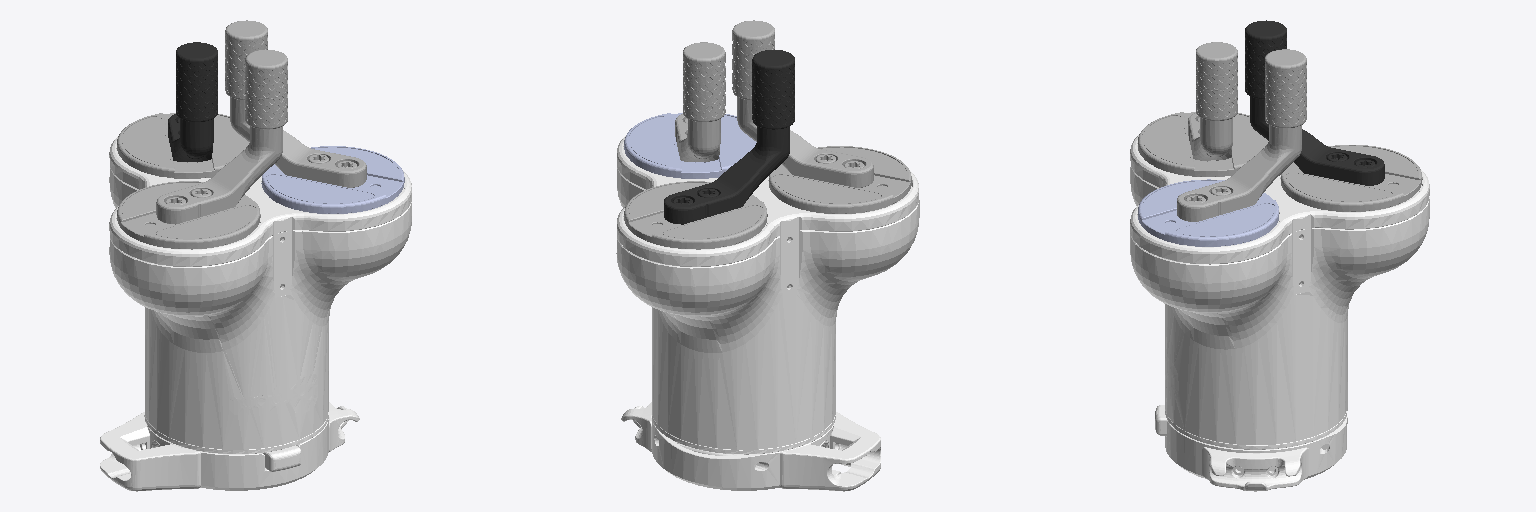
URDF robot description (onrobot_3fg25):
<?xml version="1.0" encoding="utf-8"?>
<!-- This URDF was automatically created by SolidWorks to URDF Exporter! Originally created by Stephen Brawner (brawner@gmail.com) 
     Commit Version: 1.6.0-4-g7f85cfe  Build Version: 1.6.7995.38578
     For more information, please see http://wiki.ros.org/sw_urdf_exporter -->
<robot
  name="onrobot_3fg25">
  <link
    name="base_link">
    <inertial>
      <origin
        xyz="0.0069729 -0.0041491 0.087467"
        rpy="0 0 0" />
      <mass
        value="0.8916" />
      <inertia
        ixx="0.00085736"
        ixy="-8.0434E-07"
        ixz="4.0429E-07"
        iyy="0.00086353"
        iyz="-2.2355E-07"
        izz="0.0013564" />
    </inertial>
    <visual>
      <origin
        xyz="0 0 0"
        rpy="0 0 0" />
      <geometry>
        <mesh
          filename="package://onrobot_3fg25/meshes/base_link.STL" />
      </geometry>
      <material
        name="">
        <color
          rgba="1 1 1 1" />
      </material>
    </visual>
    <collision>
      <origin
        xyz="0 0 0"
        rpy="0 0 0" />
      <geometry>
        <mesh
          filename="package://onrobot_3fg25/meshes/base_link.STL" />
      </geometry>
    </collision>
  </link>



  <link
    name="left_finger_base_link">
    <inertial>
      <origin
        xyz="1.2869E-09 4.4895E-06 0.005108"
        rpy="0 0 0" />
      <mass
        value="0.20122" />
      <inertia
        ixx="4.0179E-05"
        ixy="-1.8954E-12"
        ixz="2.5757E-14"
        iyy="3.9216E-05"
        iyz="4.0292E-09"
        izz="7.5207E-05" />
    </inertial>
    <visual>
      <origin
        xyz="0 0 0"
        rpy="0 0 0" />
      <geometry>
        <mesh
          filename="package://onrobot_3fg25/meshes/finger_base_link.STL" />
      </geometry>
      <material
        name="">
        <color
          rgba="0.75294 0.75294 0.75294 1" />
      </material>
    </visual>
    <collision>
      <origin
        xyz="0 0 0"
        rpy="0 0 0" />
      <geometry>
        <mesh
          filename="package://onrobot_3fg25/meshes/finger_base_link.STL" />
      </geometry>
    </collision>
  </link>
  <joint
    name="left_finger_base_joint"
    type="revolute">
    <origin
      xyz="-0.032043 -0.0185 0.1148"
      rpy="3.1416 0 0.087266" />
    <parent
      link="base_link" />
    <child
      link="left_finger_base_link" />
    <axis
      xyz="0 0 1" />
    <limit
      lower="0"
      upper="2.70526"
      effort="10"
      velocity="1" />
  </joint>



  <link
    name="left_finger_tip_link">
    <inertial>
      <origin
        xyz="0.019608 -2.174E-06 -0.011747"
        rpy="0 0 0" />
      <mass
        value="0.048223" />
      <inertia
        ixx="3.9026E-06"
        ixy="-2.0031E-09"
        ixz="4.3014E-06"
        iyy="1.3413E-05"
        iyz="6.9758E-10"
        izz="1.1175E-05" />
    </inertial>
    <visual>
      <origin
        xyz="0 0 0"
        rpy="0 0 0" />
      <geometry>
        <mesh
          filename="package://onrobot_3fg25/meshes/Ø165_silicone_fingertip_link.STL" />
      </geometry>
      <material
        name="">
        <color
          rgba="0.75294 0.75294 0.75294 1" />
      </material>
    </visual>
    <collision>
      <origin
        xyz="0 0 0"
        rpy="0 0 0" />
      <geometry>
        <mesh
          filename="package://onrobot_3fg25/meshes/Ø165_silicone_fingertip_link.STL" />
      </geometry>
    </collision>
  </link>
  <joint
    name="left_finger_tip_joint"
    type="fixed">
    <origin
      xyz="0 0 0"
      rpy="0 0 0" />
    <parent
      link="left_finger_base_link" />
    <child
      link="left_finger_tip_link" />
    <axis
      xyz="0 0 0" />
  </joint>



  <link
    name="right_finger_base_link">
    <inertial>
      <origin
        xyz="1.2866E-09 4.4895E-06 0.005108"
        rpy="0 0 0" />
      <mass
        value="0.20122" />
      <inertia
        ixx="4.0179E-05"
        ixy="-1.8959E-12"
        ixz="2.5752E-14"
        iyy="3.9216E-05"
        iyz="4.0292E-09"
        izz="7.5207E-05" />
    </inertial>
    <visual>
      <origin
        xyz="0 0 0"
        rpy="0 0 0" />
      <geometry>
        <mesh
          filename="package://onrobot_3fg25/meshes/finger_base_link.STL" />
      </geometry>
      <material
        name="">
        <color
          rgba="0.79216 0.81961 0.93333 1" />
      </material>
    </visual>
    <collision>
      <origin
        xyz="0 0 0"
        rpy="0 0 0" />
      <geometry>
        <mesh
          filename="package://onrobot_3fg25/meshes/finger_base_link.STL" />
      </geometry>
    </collision>
  </link>
  <joint
    name="right_finger_base_joint"
    type="revolute">
    <origin
      xyz="0.032043 -0.0185 0.1148"
      rpy="-3.1416 0 2.1817" />
    <parent
      link="base_link" />
    <child
      link="right_finger_base_link" />
    <axis
      xyz="0 0 1" />
    <limit
      lower="0"
      upper="0"
      effort="0"
      velocity="0" />
    <mimic
      joint="left_finger_base_joint"
      multiplier="1"
      offset="0" />
  </joint>



  <link
    name="right_finger_tip_link">
    <inertial>
      <origin
        xyz="0.020698 -2.0309E-06 -0.013781"
        rpy="0 0 0" />
      <mass
        value="0.05153" />
      <inertia
        ixx="4.2087E-06"
        ixy="-2.0056E-09"
        ixz="4.3014E-06"
        iyy="1.3719E-05"
        iyz="6.994E-10"
        izz="1.1342E-05" />
    </inertial>
    <visual>
      <origin
        xyz="0 0 0"
        rpy="0 0 0" />
      <geometry>
        <mesh
          filename="package://onrobot_3fg25/meshes/Ø165_silicone_fingertip_link.STL" />
      </geometry>
      <material
        name="">
        <color
          rgba="0.75294 0.75294 0.75294 1" />
      </material>
    </visual>
    <collision>
      <origin
        xyz="0 0 0"
        rpy="0 0 0" />
      <geometry>
        <mesh
          filename="package://onrobot_3fg25/meshes/Ø165_silicone_fingertip_link.STL" />
      </geometry>
    </collision>
  </link>
  <joint
    name="right_finger_tip_joint"
    type="fixed">
    <origin
      xyz="0 0 0"
      rpy="0 0 0" />
    <parent
      link="right_finger_base_link" />
    <child
      link="right_finger_tip_link" />
    <axis
      xyz="0 0 0" />
  </joint>



  <link
    name="middle_finger_base_link">
    <inertial>
      <origin
        xyz="1.2871E-09 4.4895E-06 0.005108"
        rpy="0 0 0" />
      <mass
        value="0.20122" />
      <inertia
        ixx="4.0179E-05"
        ixy="-1.8959E-12"
        ixz="2.5759E-14"
        iyy="3.9216E-05"
        iyz="4.0292E-09"
        izz="7.5207E-05" />
    </inertial>
    <visual>
      <origin
        xyz="0 0 0"
        rpy="0 0 0" />
      <geometry>
        <mesh
          filename="package://onrobot_3fg25/meshes/finger_base_link.STL" />
      </geometry>
      <material
        name="">
        <color
          rgba="0.75294 0.75294 0.75294 1" />
      </material>
    </visual>
    <collision>
      <origin
        xyz="0 0 0"
        rpy="0 0 0" />
      <geometry>
        <mesh
          filename="package://onrobot_3fg25/meshes/finger_base_link.STL" />
      </geometry>
    </collision>
  </link>
  <joint
    name="middle_finger_base_joint"
    type="revolute">
    <origin
      xyz="0 0.037 0.1148"
      rpy="3.1416 0 -2.0071" />
    <parent
      link="base_link" />
    <child
      link="middle_finger_base_link" />
    <axis
      xyz="0 0 1" />
    <limit
      lower="0"
      upper="0"
      effort="0"
      velocity="0" />
    <mimic
      joint="left_finger_base_joint"
      multiplier="1"
      offset="0" />
  </joint>


  
  <link
    name="middle_finger_tip_link">
    <inertial>
      <origin
        xyz="0.019608 -2.1641E-06 -0.011747"
        rpy="0 0 0" />
      <mass
        value="0.048223" />
      <inertia
        ixx="3.9026E-06"
        ixy="-2.0101E-09"
        ixz="4.3014E-06"
        iyy="1.3413E-05"
        iyz="7.0237E-10"
        izz="1.1175E-05" />
    </inertial>
    <visual>
      <origin
        xyz="0 0 0"
        rpy="0 0 0" />
      <geometry>
        <mesh
          filename="package://onrobot_3fg25/meshes/Ø165_silicone_fingertip_link.STL" />
      </geometry>
      <material
        name="">
        <color
          rgba="0.25098 0.25098 0.25098 1" />
      </material>
    </visual>
    <collision>
      <origin
        xyz="0 0 0"
        rpy="0 0 0" />
      <geometry>
        <mesh
          filename="package://onrobot_3fg25/meshes/Ø165_silicone_fingertip_link.STL" />
      </geometry>
    </collision>
  </link>
  <joint
    name="middle_finger_tip_joint"
    type="fixed">
    <origin
      xyz="0 0 0"
      rpy="0 0 0" />
    <parent
      link="middle_finger_base_link" />
    <child
      link="middle_finger_tip_link" />
    <axis
      xyz="0 0 0" />
  </joint>
</robot>

--- Render facts (derived) ---
3 views of the same robot in one strip: view 1: azimuth 30°, elevation 25°; view 2: azimuth 150°, elevation 25°; view 3: azimuth 270°, elevation 25° (orthographic).
Robot: onrobot_3fg25 — 7 links, 6 joints (3 revolute, 3 fixed); root link base_link; default pose: all joints at 0.
Visible links, largest first — view 1: base_link, left_finger_tip_link, right_finger_tip_link, left_finger_base_link, right_finger_base_link, middle_finger_tip_link, middle_finger_base_link; view 2: base_link, middle_finger_tip_link, left_finger_tip_link, middle_finger_base_link, left_finger_base_link, right_finger_tip_link, right_finger_base_link; view 3: base_link, right_finger_tip_link, middle_finger_tip_link, right_finger_base_link, middle_finger_base_link, left_finger_tip_link, left_finger_base_link.
Boxes of the visible links, x1,y1,x2,y2 form: base_link: [100, 137, 411, 491]; left_finger_tip_link: [156, 50, 287, 224]; right_finger_tip_link: [225, 20, 366, 187]; left_finger_base_link: [117, 181, 259, 249]; right_finger_base_link: [261, 146, 404, 213]; middle_finger_tip_link: [168, 42, 217, 161]; middle_finger_base_link: [117, 113, 249, 178]; base_link: [616, 136, 919, 491]; middle_finger_tip_link: [664, 50, 794, 224]; left_finger_tip_link: [732, 20, 873, 187]; middle_finger_base_link: [624, 181, 766, 249]; left_finger_base_link: [769, 146, 911, 213]; right_finger_tip_link: [675, 42, 725, 161]; right_finger_base_link: [624, 113, 756, 178]; base_link: [1130, 135, 1429, 491]; right_finger_tip_link: [1177, 49, 1306, 221]; middle_finger_tip_link: [1245, 20, 1384, 185]; right_finger_base_link: [1138, 179, 1278, 246]; middle_finger_base_link: [1281, 145, 1421, 211]; left_finger_tip_link: [1188, 42, 1237, 160]; left_finger_base_link: [1138, 112, 1268, 176].
Bounding box of the posed robot: 0.1251 × 0.1165 × 0.1734 m (x, y, z).
Meshes: 3 distinct files referenced, 7 mesh visuals loaded (3 binary STL).
